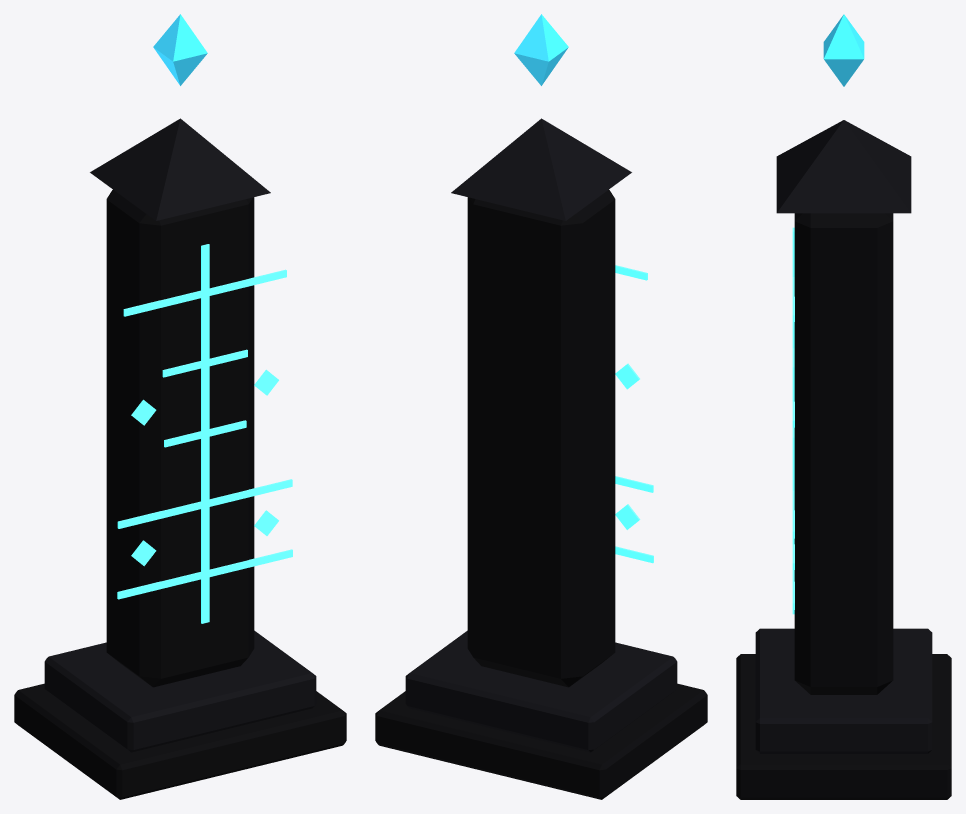
File: SM_Monolith_Glyph.glb
The picture shows the model from 3 angles, left to right: view 1: azimuth 30°, elevation 25°; view 2: azimuth 150°, elevation 25°; view 3: azimuth 270°, elevation 25°; orthographic projection.
Parts seen in each view (by area): view 1: SM_Monolith_Glyph; view 2: SM_Monolith_Glyph; view 3: SM_Monolith_Glyph.
Part boxes in pixels (x1,y1,x2,y2): SM_Monolith_Glyph: (14,14,346,799); SM_Monolith_Glyph: (375,14,707,799); SM_Monolith_Glyph: (736,14,951,799).
Size of the model in its own units: 1.5 by 4.49 by 1.2.
1 material, 1 textured.
